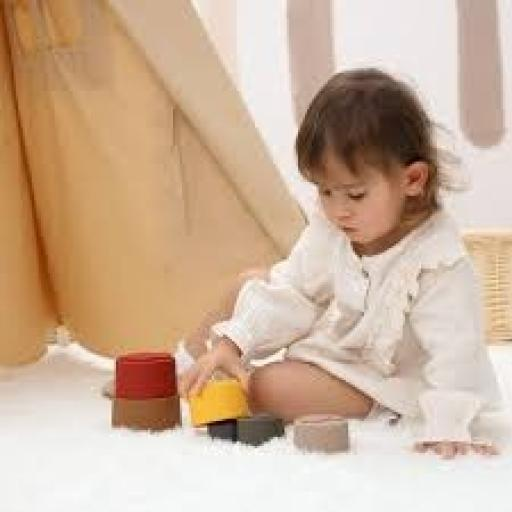baby: (180, 69, 500, 457)
